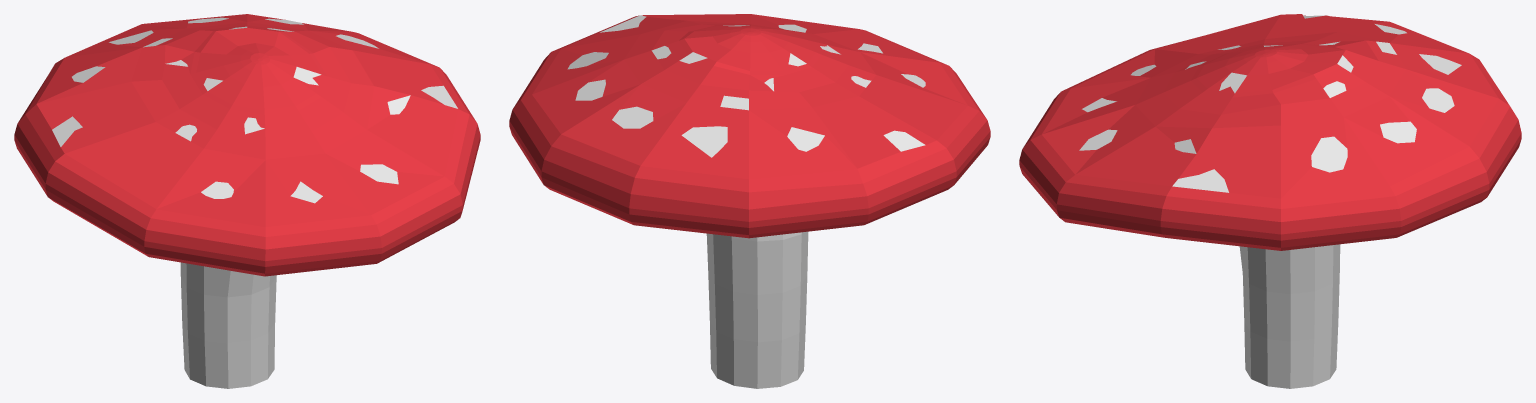
The model's file is Hongo.fbx.
3 views of the same model, side by side, from view 1: azimuth 30°, elevation 25°; view 2: azimuth 150°, elevation 25°; view 3: azimuth 270°, elevation 25° (orthographic). The views are drawn at different scales.
Visible parts, largest first — view 1: Hongo; view 2: Hongo; view 3: Hongo.
Part boxes in pixels (box(x1,y1,x2,y2)): Hongo: box(14, 14, 480, 388); Hongo: box(509, 14, 990, 388); Hongo: box(1019, 14, 1521, 388).
Bounding box in the file's own units: 898 × 674 × 937.
